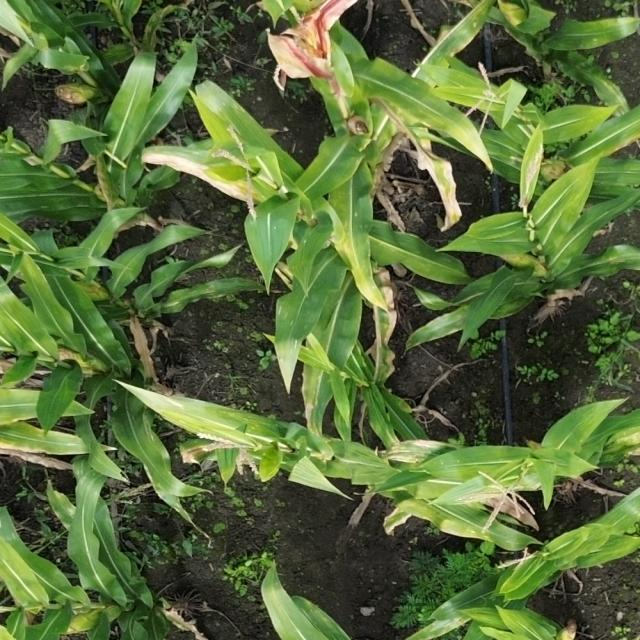gray-leaf-spot: (245, 290, 328, 380)
northern-leaf-blight: (360, 74, 506, 225), (141, 147, 282, 213), (357, 421, 473, 497), (2, 399, 113, 470)
southern-leaf-blight: (309, 185, 417, 308), (183, 398, 305, 470)
